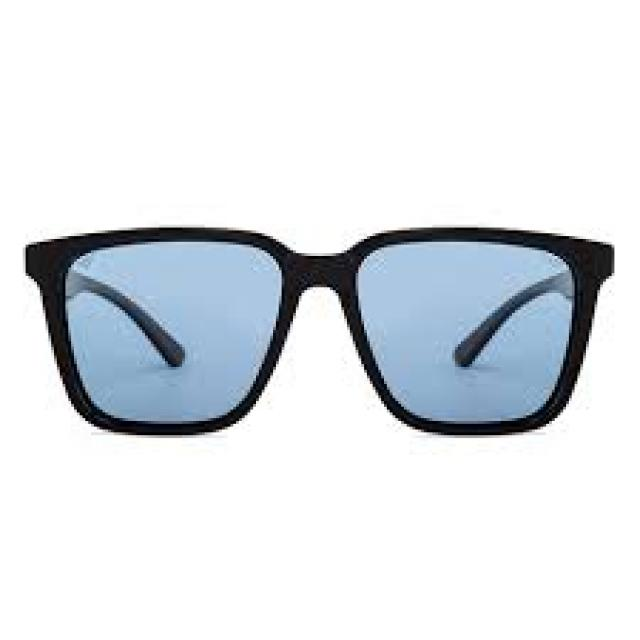suspicious-objects: (26, 209, 623, 440)
